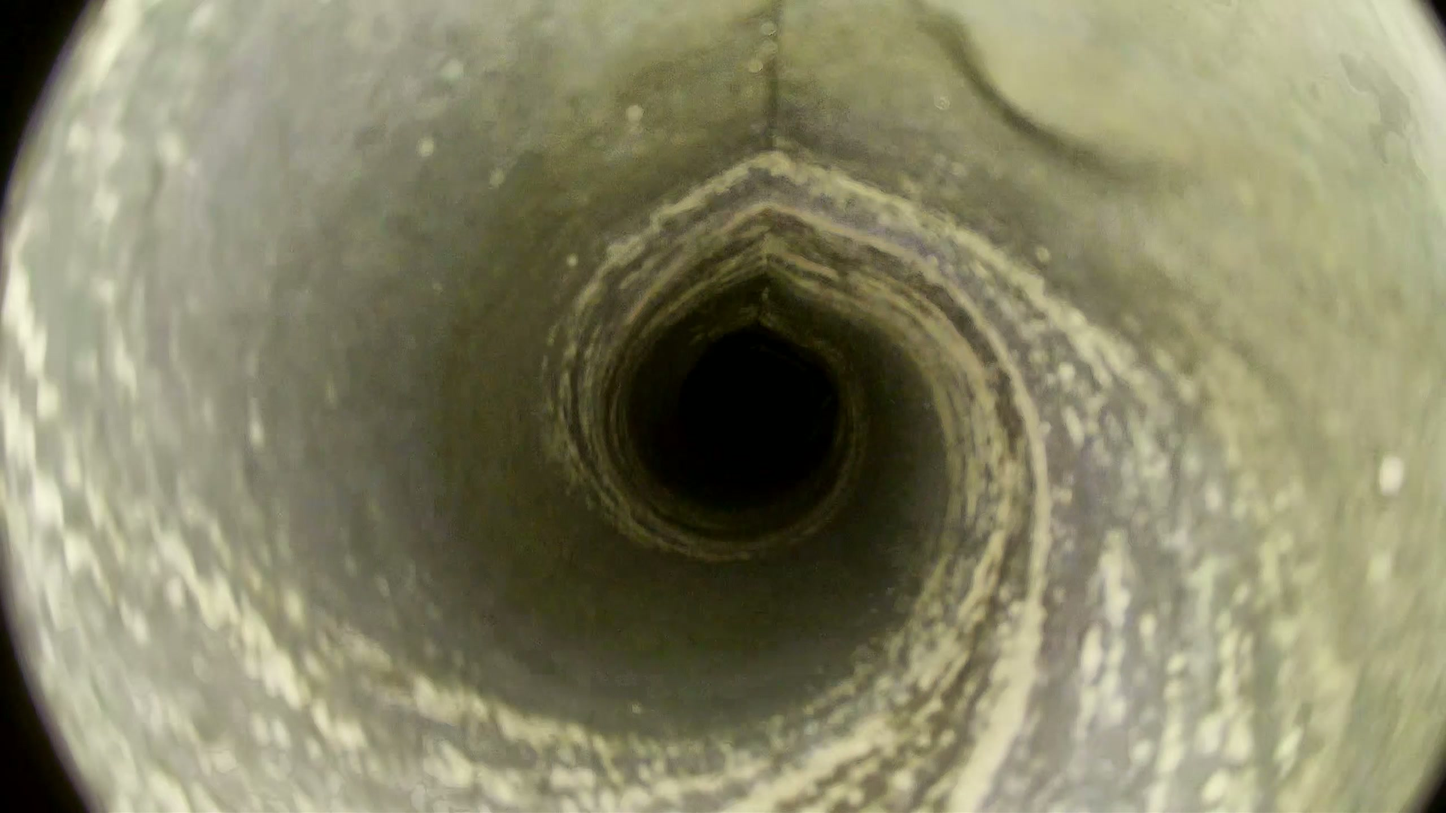hole: (683, 347, 813, 467)
